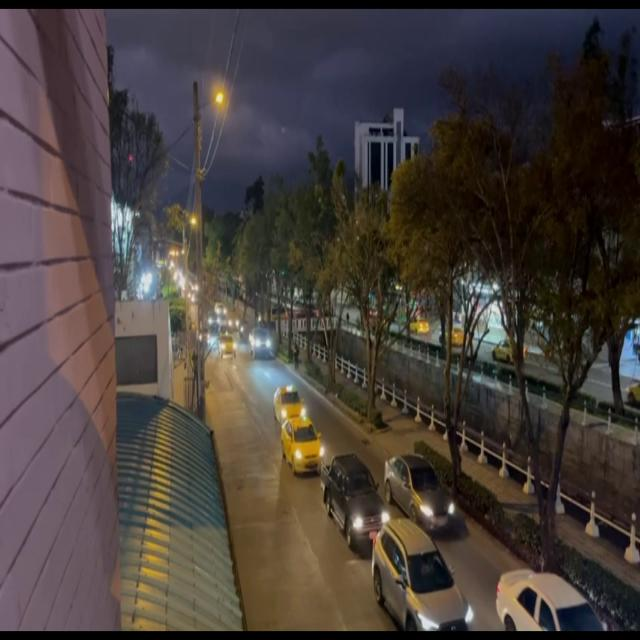CMT: (323, 453, 384, 540)
SUV: (375, 519, 471, 635)
